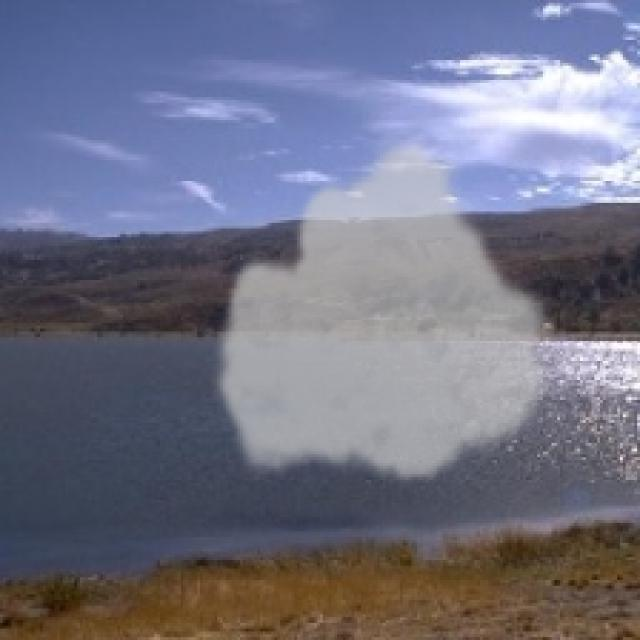smoke: (211, 131, 560, 486)
